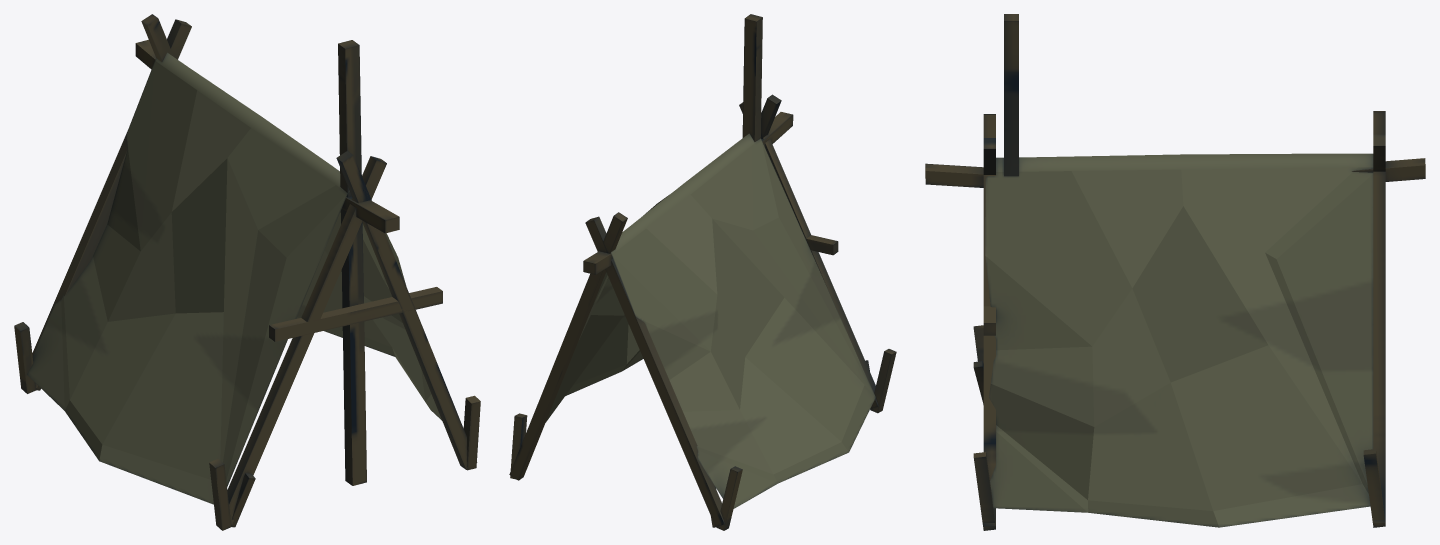
File: tent.FBX
3 views of the same model, side by side, from view 1: azimuth 30°, elevation 25°; view 2: azimuth 150°, elevation 25°; view 3: azimuth 270°, elevation 25° (orthographic). The views are drawn at different scales.
Visible parts, largest first — view 1: Box008; view 2: Box008; view 3: Box008.
Part boxes in pixels (bbox=[...]): Box008: bbox=[14, 14, 480, 530]; Box008: bbox=[509, 14, 896, 530]; Box008: bbox=[925, 14, 1425, 530].
Size of the model in its own units: 62.88 by 80.29 by 80.98.
